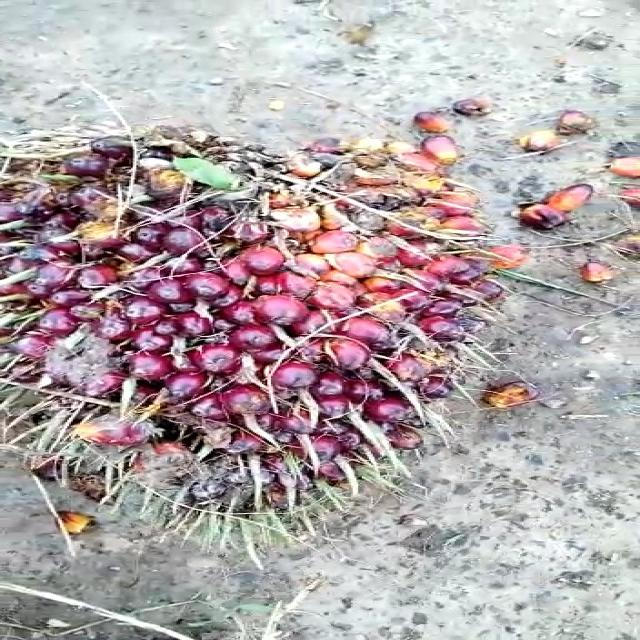palm oil: (0, 106, 570, 536)
